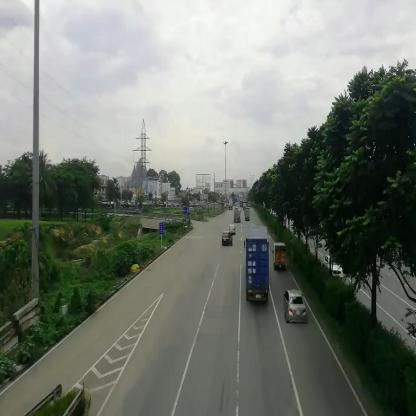car: (285, 291, 308, 325), (223, 232, 234, 248), (230, 224, 236, 236)
container: (247, 227, 268, 303)
truck: (275, 240, 286, 273), (236, 209, 242, 224), (246, 208, 251, 223)
